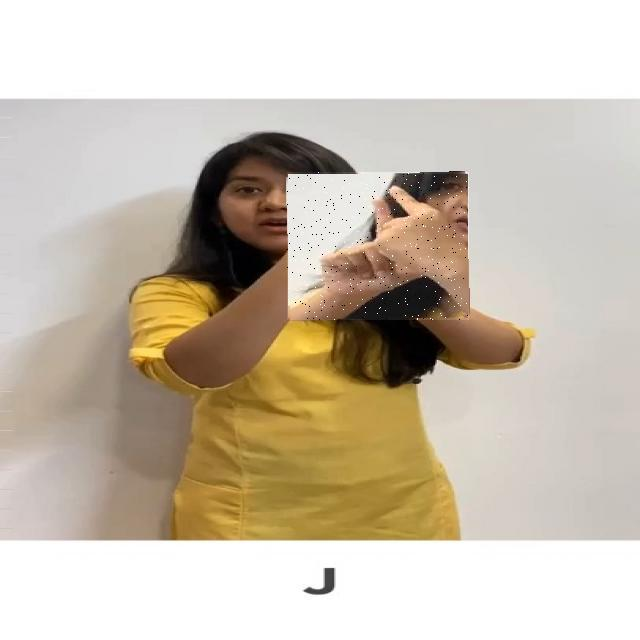J: (287, 172, 469, 320)
